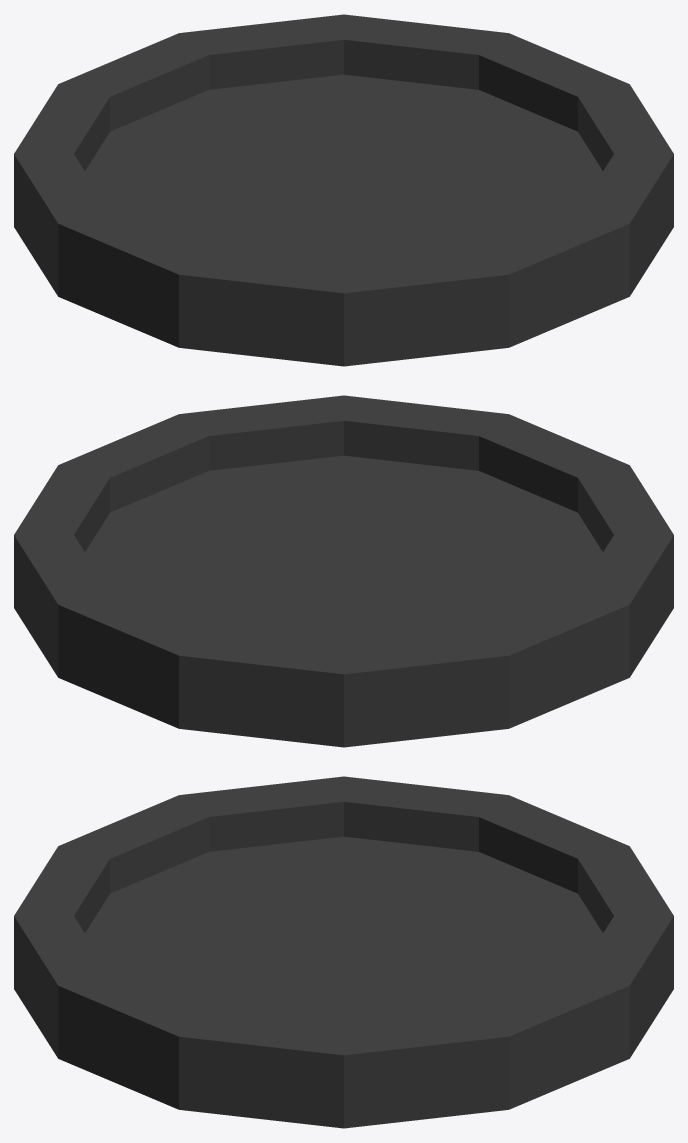
The model's file is Thor_base.fbx.
3 views of the same model, one above another, from view 1: azimuth 30°, elevation 25°; view 2: azimuth 150°, elevation 25°; view 3: azimuth 270°, elevation 25° (orthographic).
Visible parts, largest first — view 1: DM_thor_base; view 2: DM_thor_base; view 3: DM_thor_base.
Part boxes in pixels (left/top/right/bottom): DM_thor_base: left=14, top=14, right=673, bottom=366; DM_thor_base: left=14, top=395, right=673, bottom=747; DM_thor_base: left=14, top=776, right=673, bottom=1128.
Bounding box in the file's own units: 120 × 14.69 × 120.
Materials: 1 (1 with a texture image).
